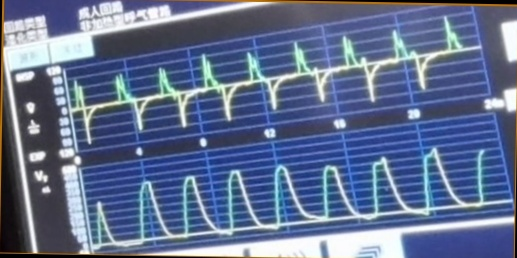Accumulation Flow: (70, 19, 476, 141)
Volume: (91, 148, 487, 248)
